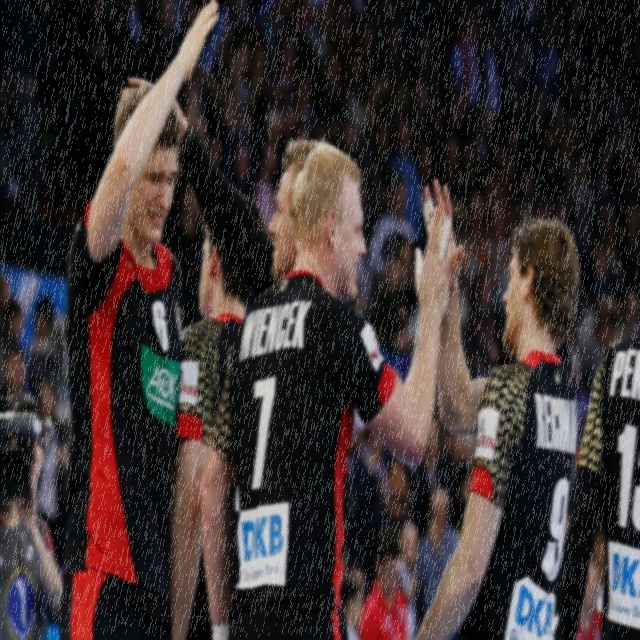pessoa: (196, 128, 457, 640), (52, 0, 224, 639), (409, 173, 591, 640), (118, 72, 325, 308), (0, 0, 640, 76), (166, 190, 265, 640), (550, 318, 640, 640), (340, 446, 469, 640), (0, 76, 68, 390), (344, 74, 640, 128), (344, 126, 640, 172), (458, 175, 502, 378), (582, 172, 640, 318), (183, 126, 345, 172), (368, 172, 405, 332), (46, 387, 80, 520), (501, 170, 582, 218)
